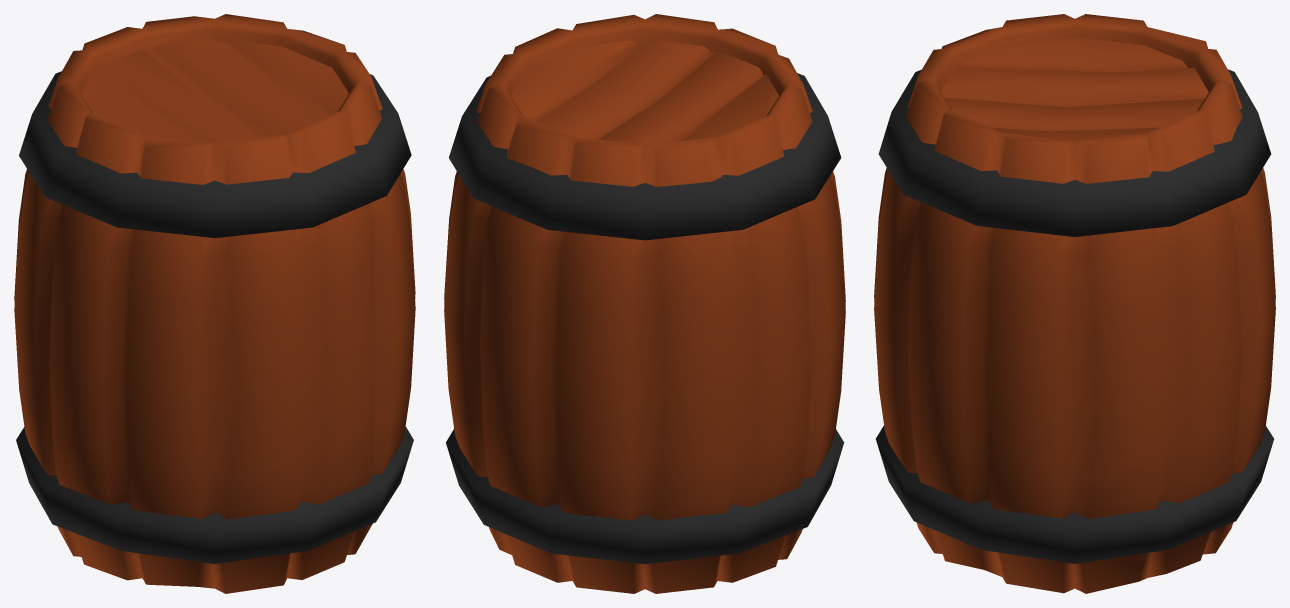
Rendered from Barrel.fbx.
The picture shows the model from 3 angles, left to right: view 1: azimuth 30°, elevation 25°; view 2: azimuth 150°, elevation 25°; view 3: azimuth 270°, elevation 25°; orthographic projection.
Parts seen in each view (by area): view 1: Barrel; view 2: Barrel; view 3: Barrel.
Part boxes in pixels (bbox=[...]): Barrel: bbox=[14, 14, 415, 593]; Barrel: bbox=[444, 14, 845, 593]; Barrel: bbox=[874, 14, 1275, 593].
Bounding box in the file's own units: 81.51 × 100 × 81.24.
1 material, 1 textured.
